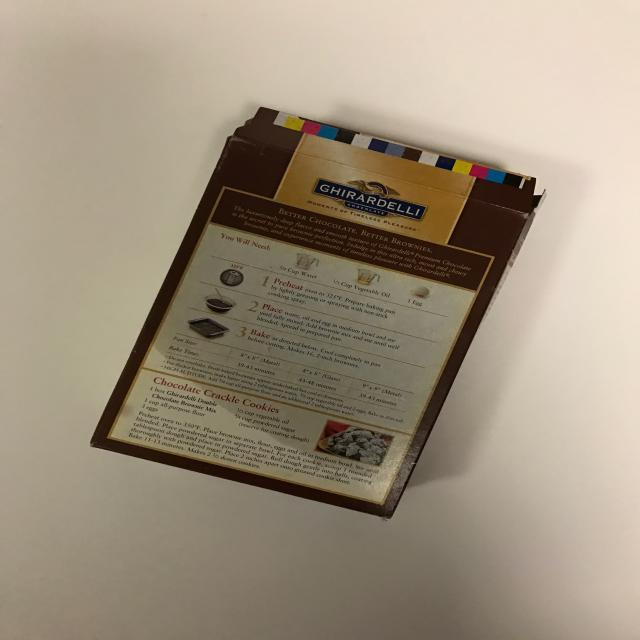paper: (88, 100, 550, 522)
